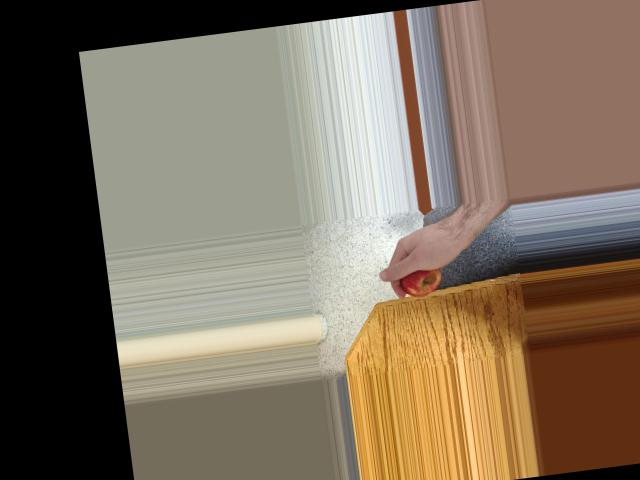apple: (394, 246, 449, 302)
